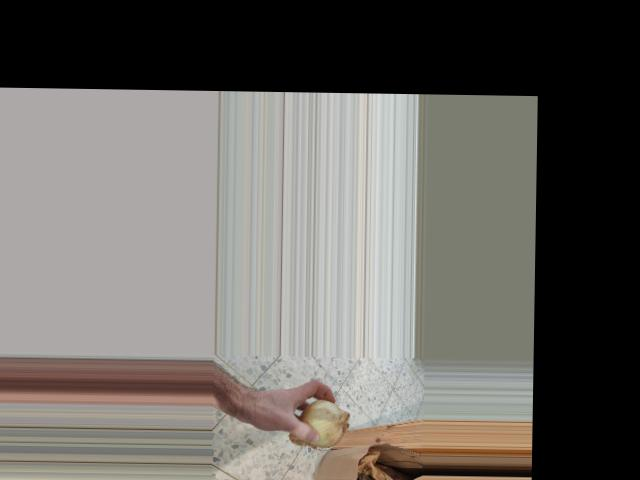onion: (288, 395, 351, 451)
